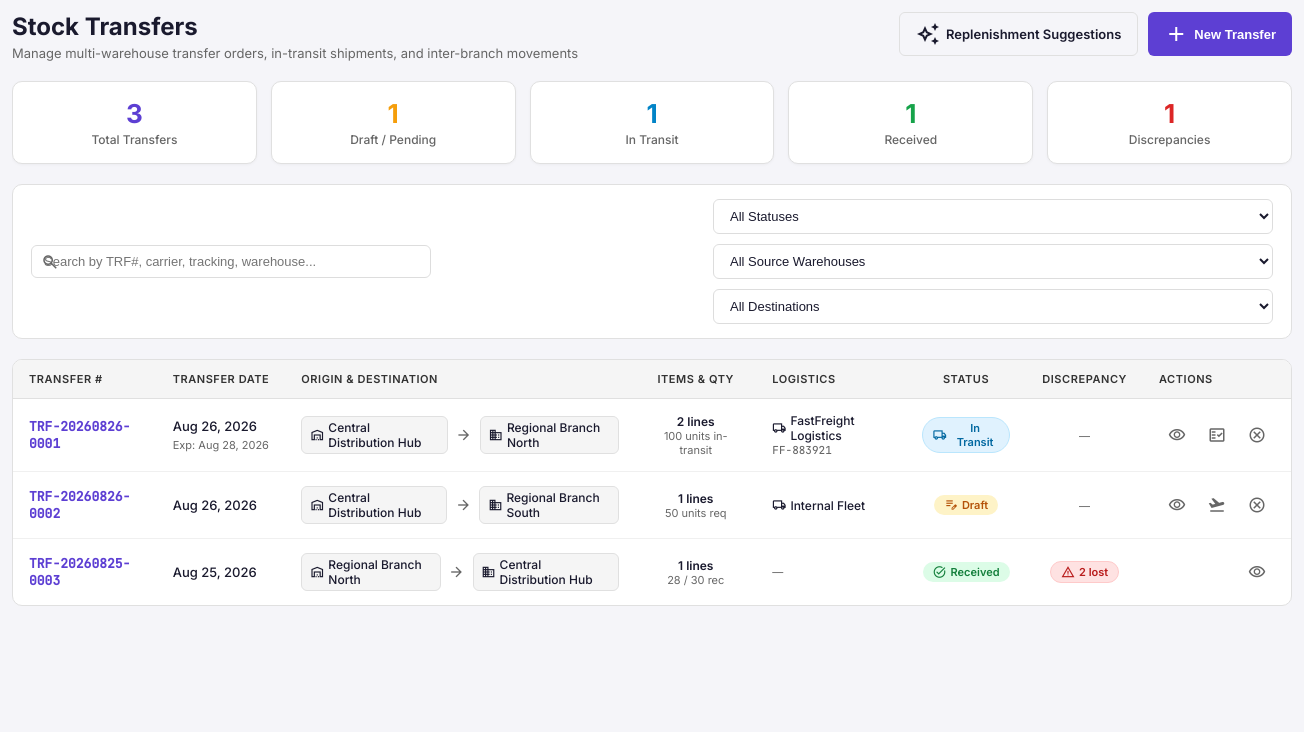
Test: StockTransfersView (Multi-Warehouse Transfers & In-Transit) › filters transfers by search query
Type "FastFreight" into the field with class "search-input" at (231,262), box [31,245,431,278]
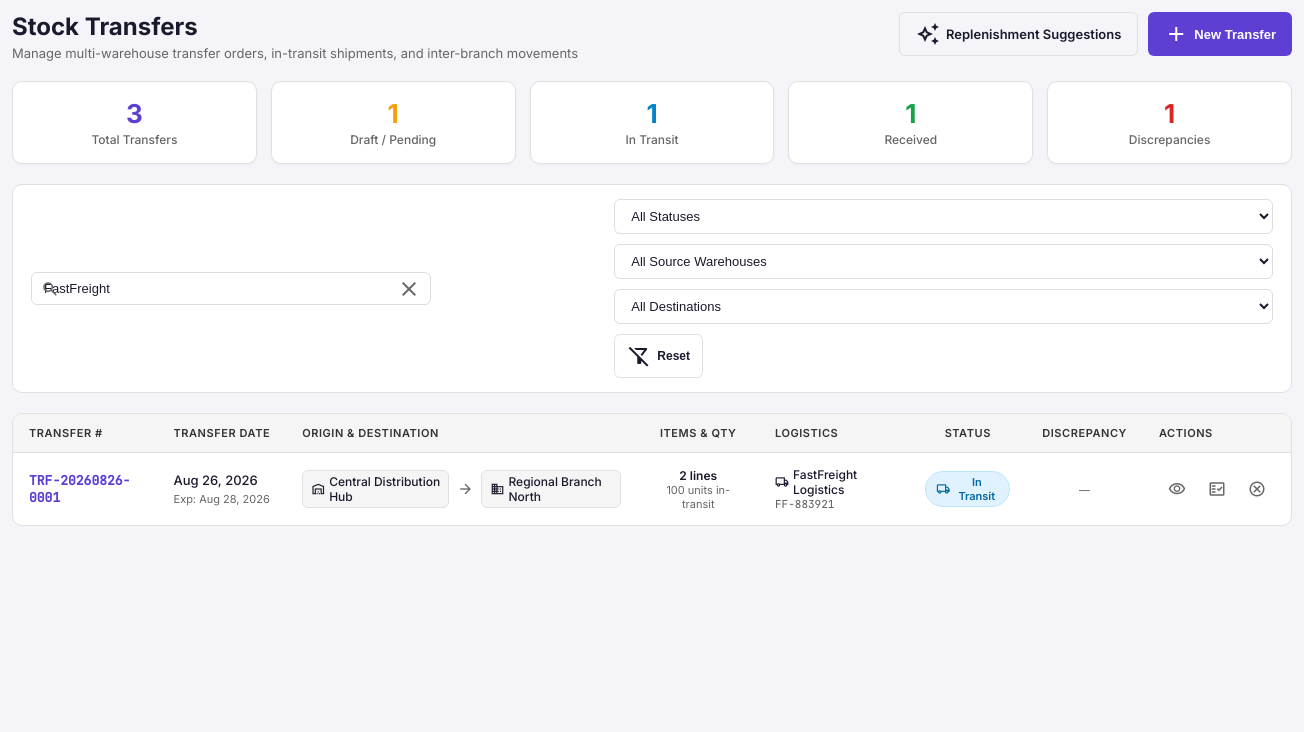
expect the text "TRF-20260826-0001" is shown: met, box [29,472,130,506]
expect the text "TRF-20260826-0002" is gone: met
